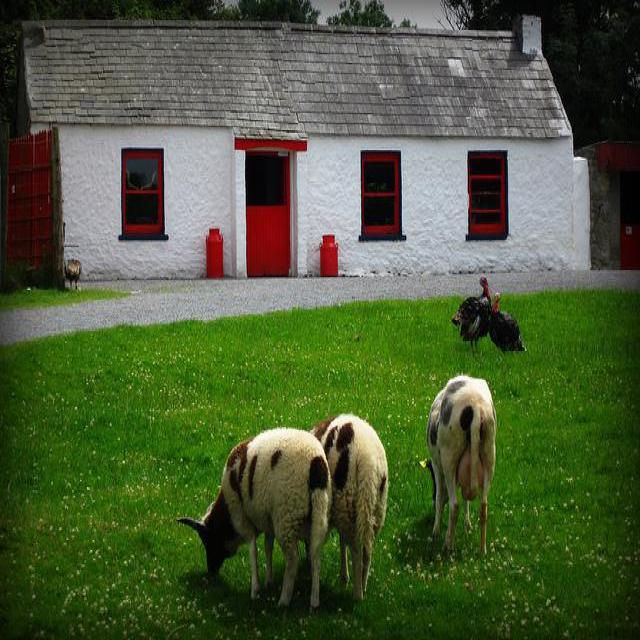Sheep: (194, 427, 328, 610), (309, 412, 391, 602)
